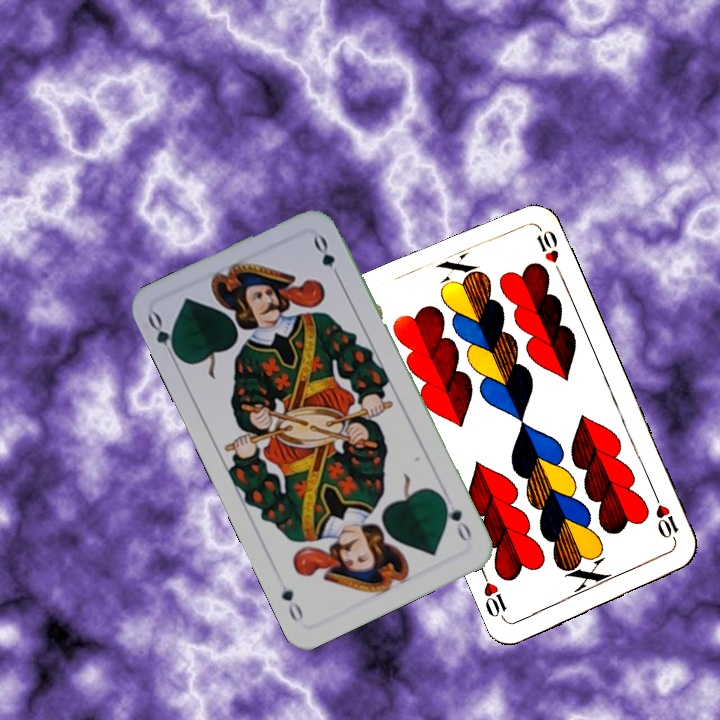GO: (143, 308, 183, 365), (437, 493, 475, 544)
H10: (650, 490, 682, 547)
